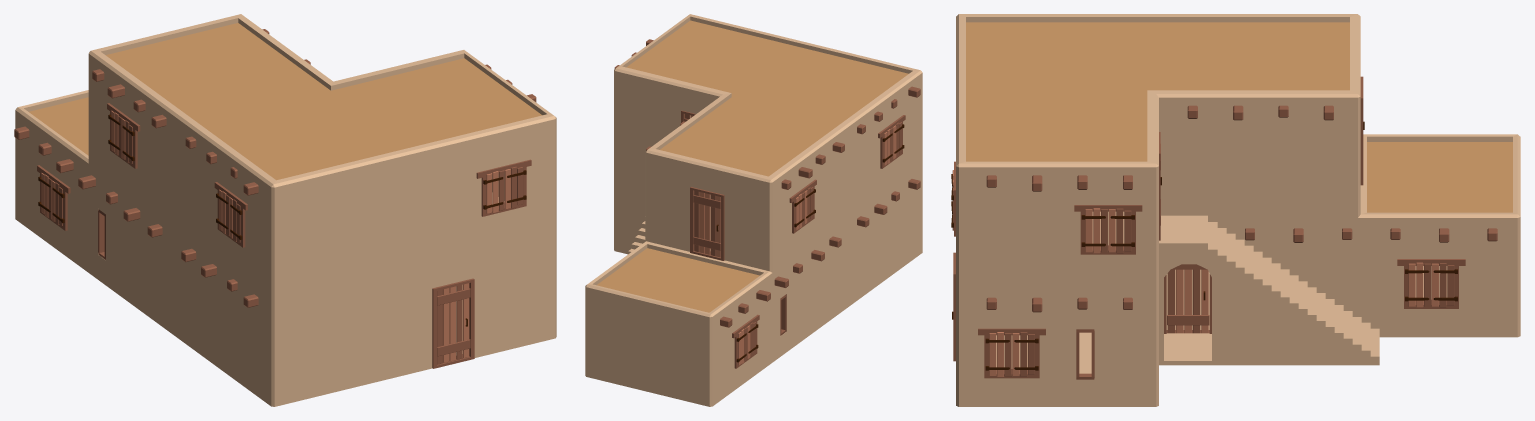
File: Large Building B.glb
The picture shows the model from 3 angles, left to right: view 1: azimuth 30°, elevation 25°; view 2: azimuth 150°, elevation 25°; view 3: azimuth 270°, elevation 25°; orthographic projection. The views are drawn at different scales.
Visible parts, largest first — view 1: Large Building B; view 2: Large Building B; view 3: Large Building B.
Part boxes in pixels (bbox=[...]): Large Building B: bbox=[14, 14, 556, 406]; Large Building B: bbox=[585, 14, 922, 406]; Large Building B: bbox=[951, 14, 1520, 406].
Bounding box in the file's own units: 963 × 653 × 1391.
